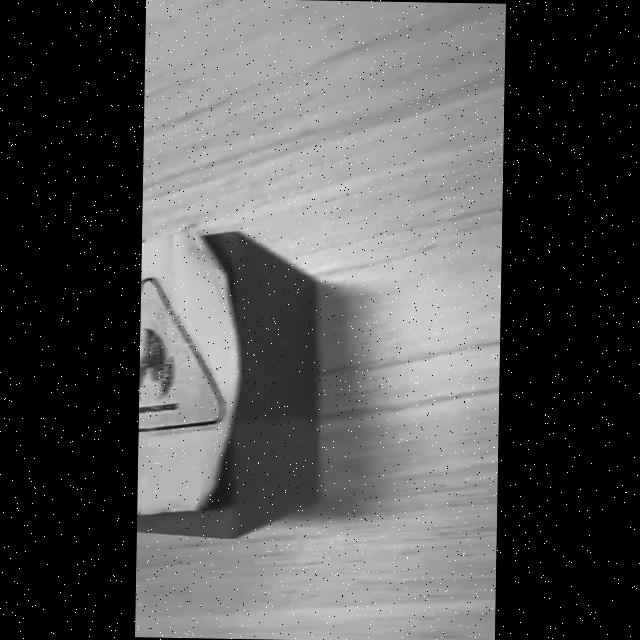Fire: (138, 276, 223, 432)
